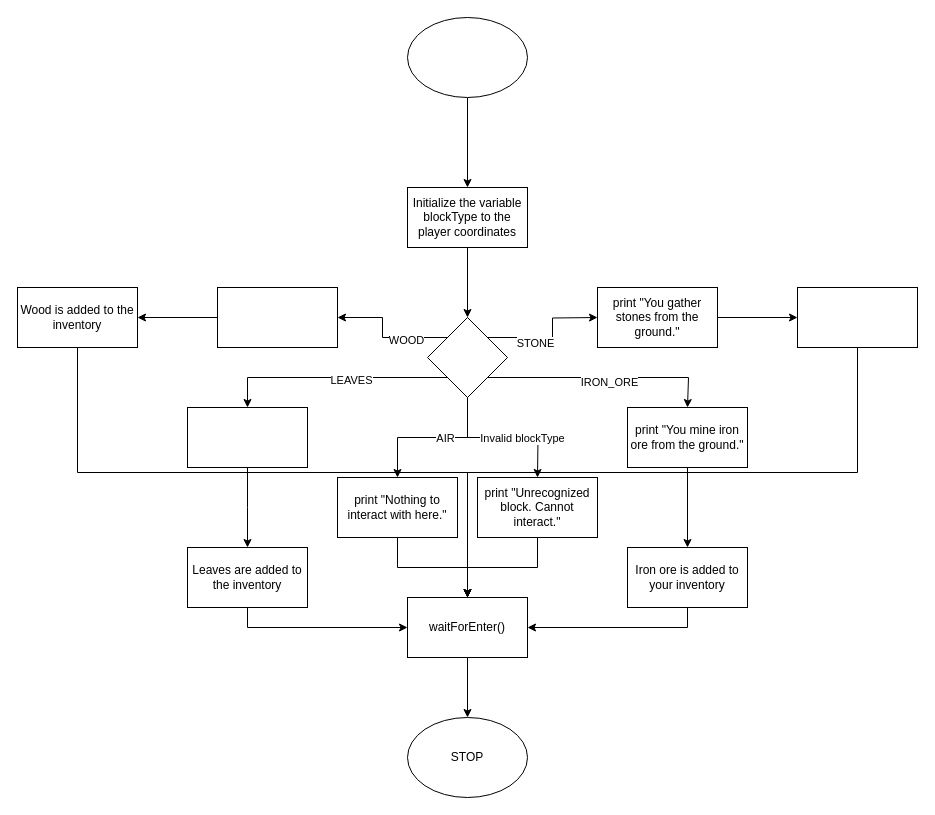
Some shapes in this 935 by 815 pixel diagram are drawn without their labels. Each missing label, with the box of its shape:
blockType ?: (426, 316, 508, 398)
print "You gather leaves from the tree.": (186, 406, 308, 468)
print "You gather wood from the tree.": (216, 286, 338, 348)
START: (406, 16, 528, 98)
Stone is added to your inventory: (796, 286, 918, 348)
